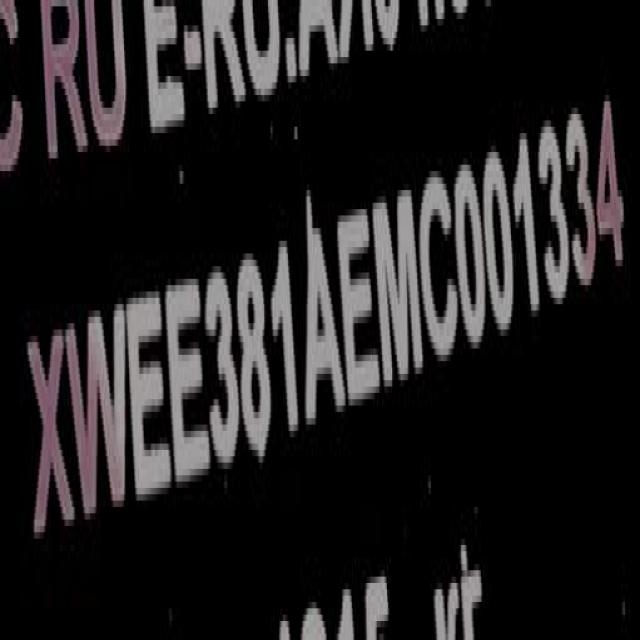0: (482, 143, 518, 338), (454, 158, 486, 352)
1: (272, 244, 305, 449), (514, 129, 540, 330)
3: (538, 113, 574, 312), (208, 266, 242, 475), (567, 101, 599, 301)
4: (595, 93, 631, 285)
8: (238, 255, 272, 462)
A: (303, 225, 345, 432)
C: (418, 171, 461, 372)
E: (170, 274, 212, 496), (133, 287, 174, 513), (336, 202, 380, 401)
M: (377, 185, 428, 394)
W: (71, 301, 132, 533)
X: (32, 324, 73, 546)
